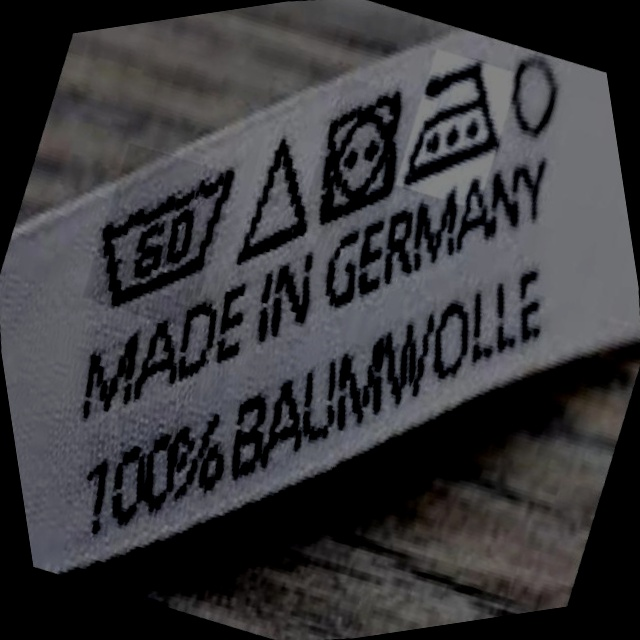60C: (70, 149, 256, 317)
bleach: (224, 126, 326, 271)
iron_high: (389, 46, 517, 195)
tumble_dry_medium: (302, 78, 419, 228)
